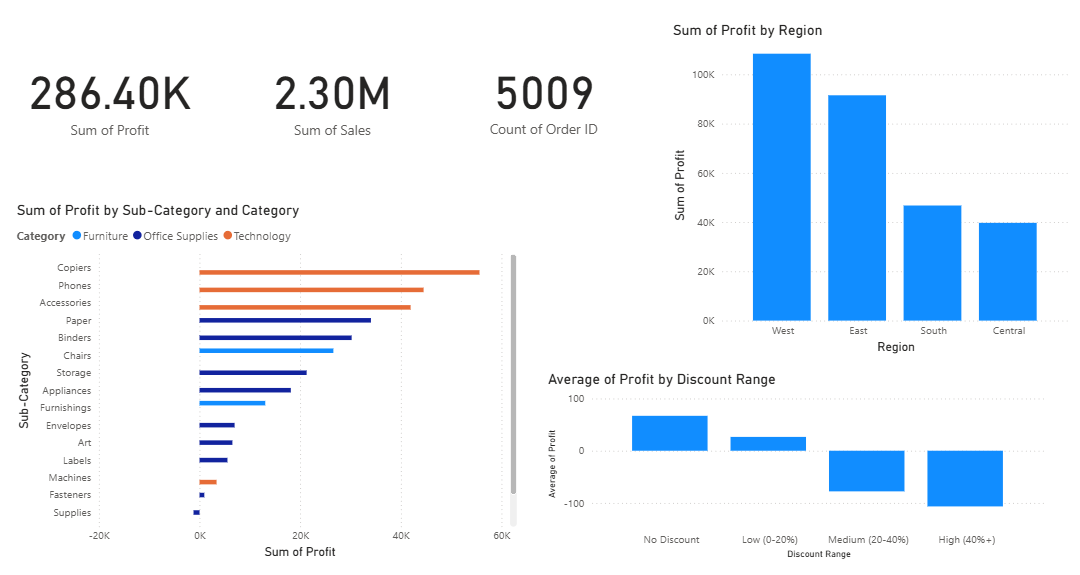

Layout of this report page (visuals, bound fields, positions):
{"tool":"powerbi","page":{"name":"Sales Profit Overview","canvas":[1280,720],"ordinal":0},"visuals":[{"type":"card","fields":{"Values":["Sum(Sample - Superstore.Profit)"]},"box":[16.2,50,255.9,207.4],"z":0},{"type":"card","fields":{"Values":["Sum(Sample - Superstore.Sales)"]},"box":[2.9,257.4,280.9,188.2],"z":1000},{"type":"card","fields":{"Values":["Count(Sample - Superstore.Order ID)"]},"box":[4.4,461.8,279.4,150],"z":2000},{"type":"clusteredBarChart","fields":{"Category":["Sample - Superstore.Sub-Category"],"Y":["Sum(Sample - Superstore.Profit)"],"Series":["Sample - Superstore.Category"]},"box":[386.8,83.8,526.5,411.8],"z":3000},{"type":"clusteredColumnChart","fields":{"Category":["Sample - Superstore.Region"],"Y":["Sum(Sample - Superstore.Profit)"]},"box":[923,84,357,412],"z":3001},{"type":"clusteredColumnChart","fields":{"Category":["Sample - Superstore.Discount Range"],"Y":["Avg(Sample - Superstore.Profit)"]},"box":[505.9,522.1,595.6,182.4],"z":3002}]}

Visuals, with their boxes on the page's 1280x720 design canvas (x1, y1, x2, y2). These are canvas units, not pixel positions in the 1080x575 screenshot, which may show the page scaled, cropped or inside an application window:
card - Sum(Sample - Superstore.Profit): rect(16, 50, 272, 257)
card - Sum(Sample - Superstore.Sales): rect(3, 257, 284, 446)
card - Count(Sample - Superstore.Order ID): rect(4, 462, 284, 612)
clusteredBarChart - Sample - Superstore.Sub-Category x Sum(Sample - Superstore.Profit): rect(387, 84, 913, 496)
clusteredColumnChart - Sample - Superstore.Region x Sum(Sample - Superstore.Profit): rect(923, 84, 1280, 496)
clusteredColumnChart - Sample - Superstore.Discount Range x Avg(Sample - Superstore.Profit): rect(506, 522, 1102, 704)
